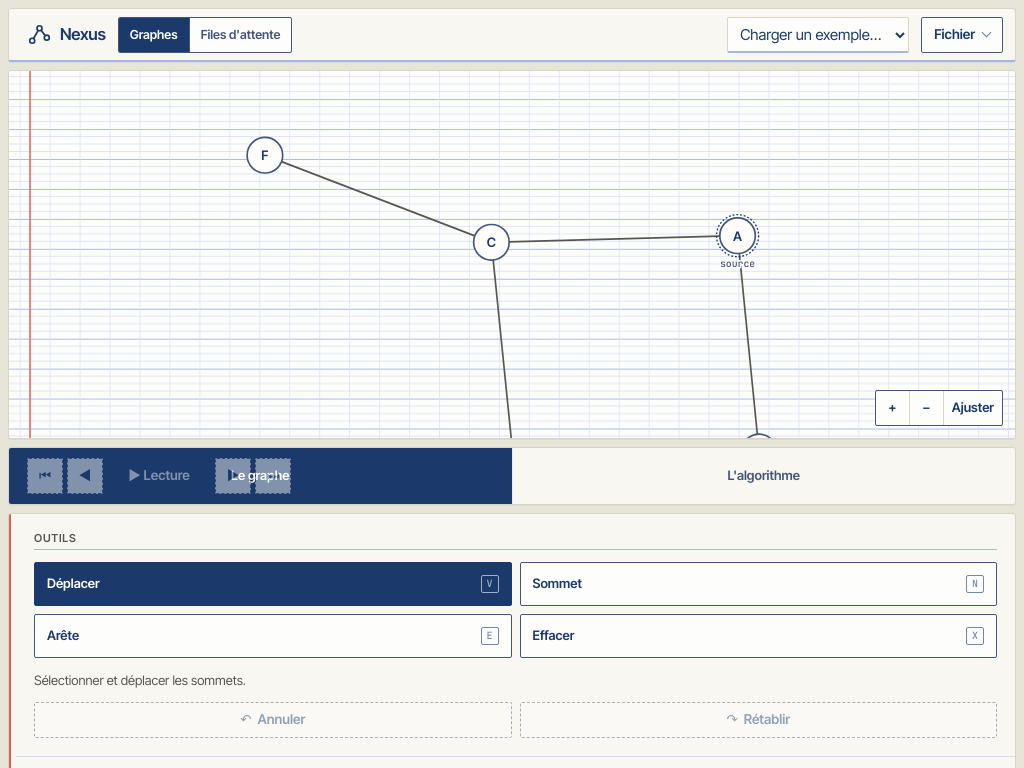
Test: le menu Fichier › se ferme après avoir agi
Click the button "Fichier" at (962, 34), box 921,16 -> 1003,52
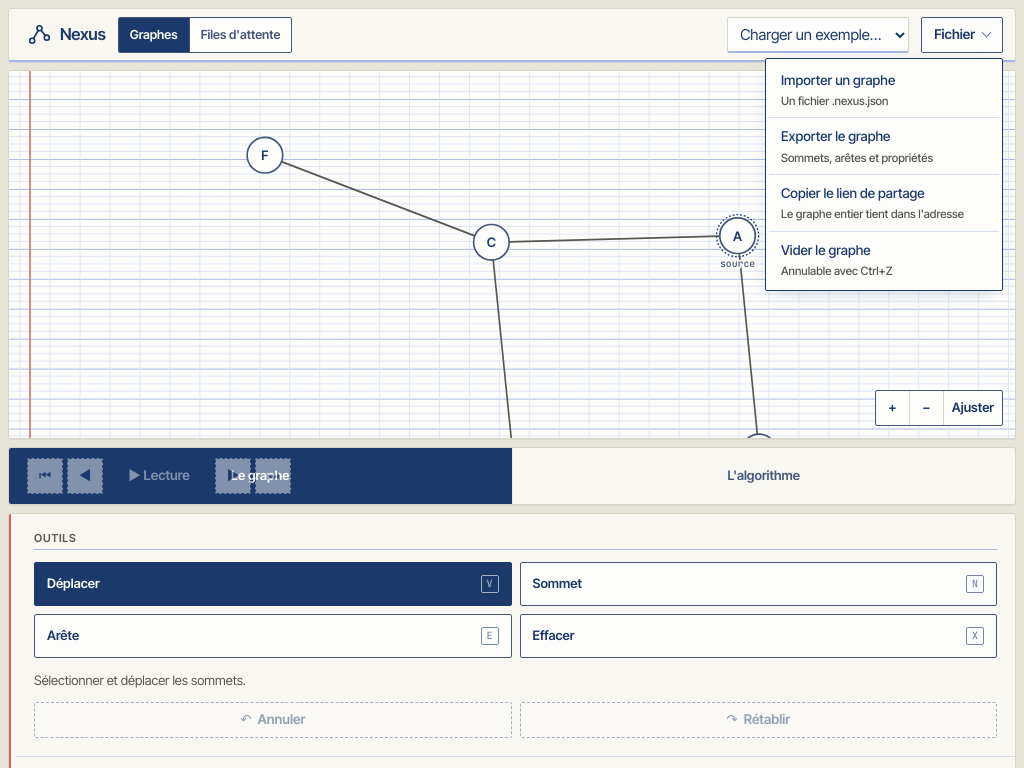
Click the menu item "Vider le graphe Annulable avec Ctrl+Z" at (884, 259), box 769,232 -> 999,287
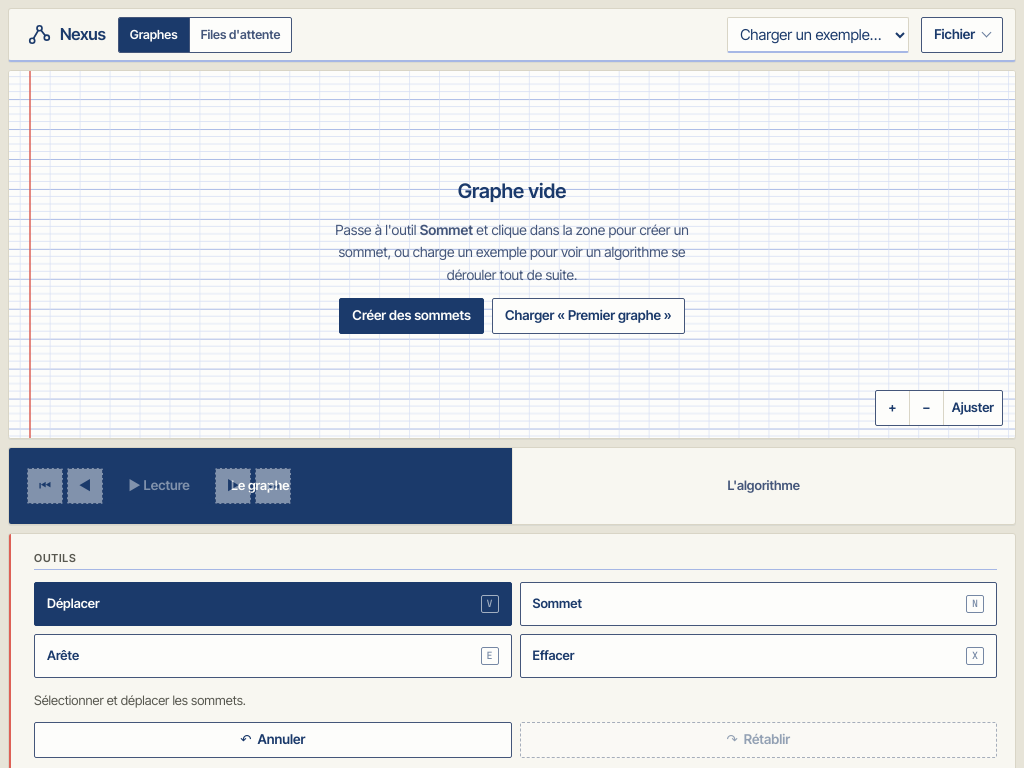
Expected: the menu item is gone
Expected: the heading "Graphe vide" is shown, 458,175 -> 566,207
